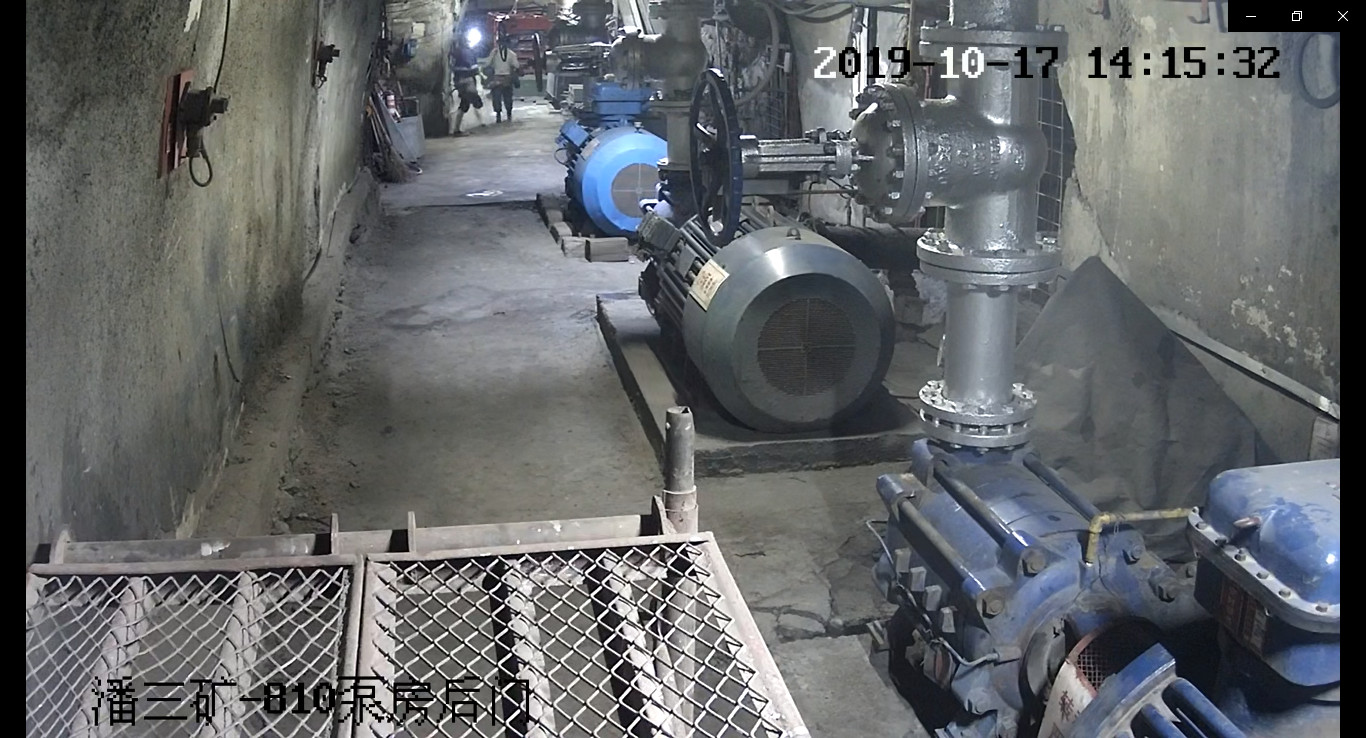helmet: (459, 28, 479, 40), (495, 33, 509, 41)
